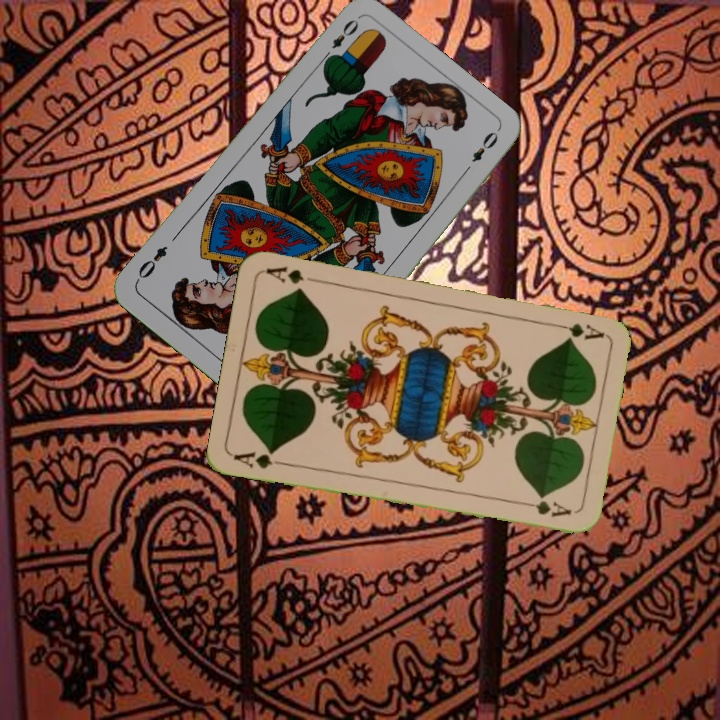EO: (318, 14, 362, 65)
GA: (230, 446, 290, 471), (548, 318, 606, 342)
